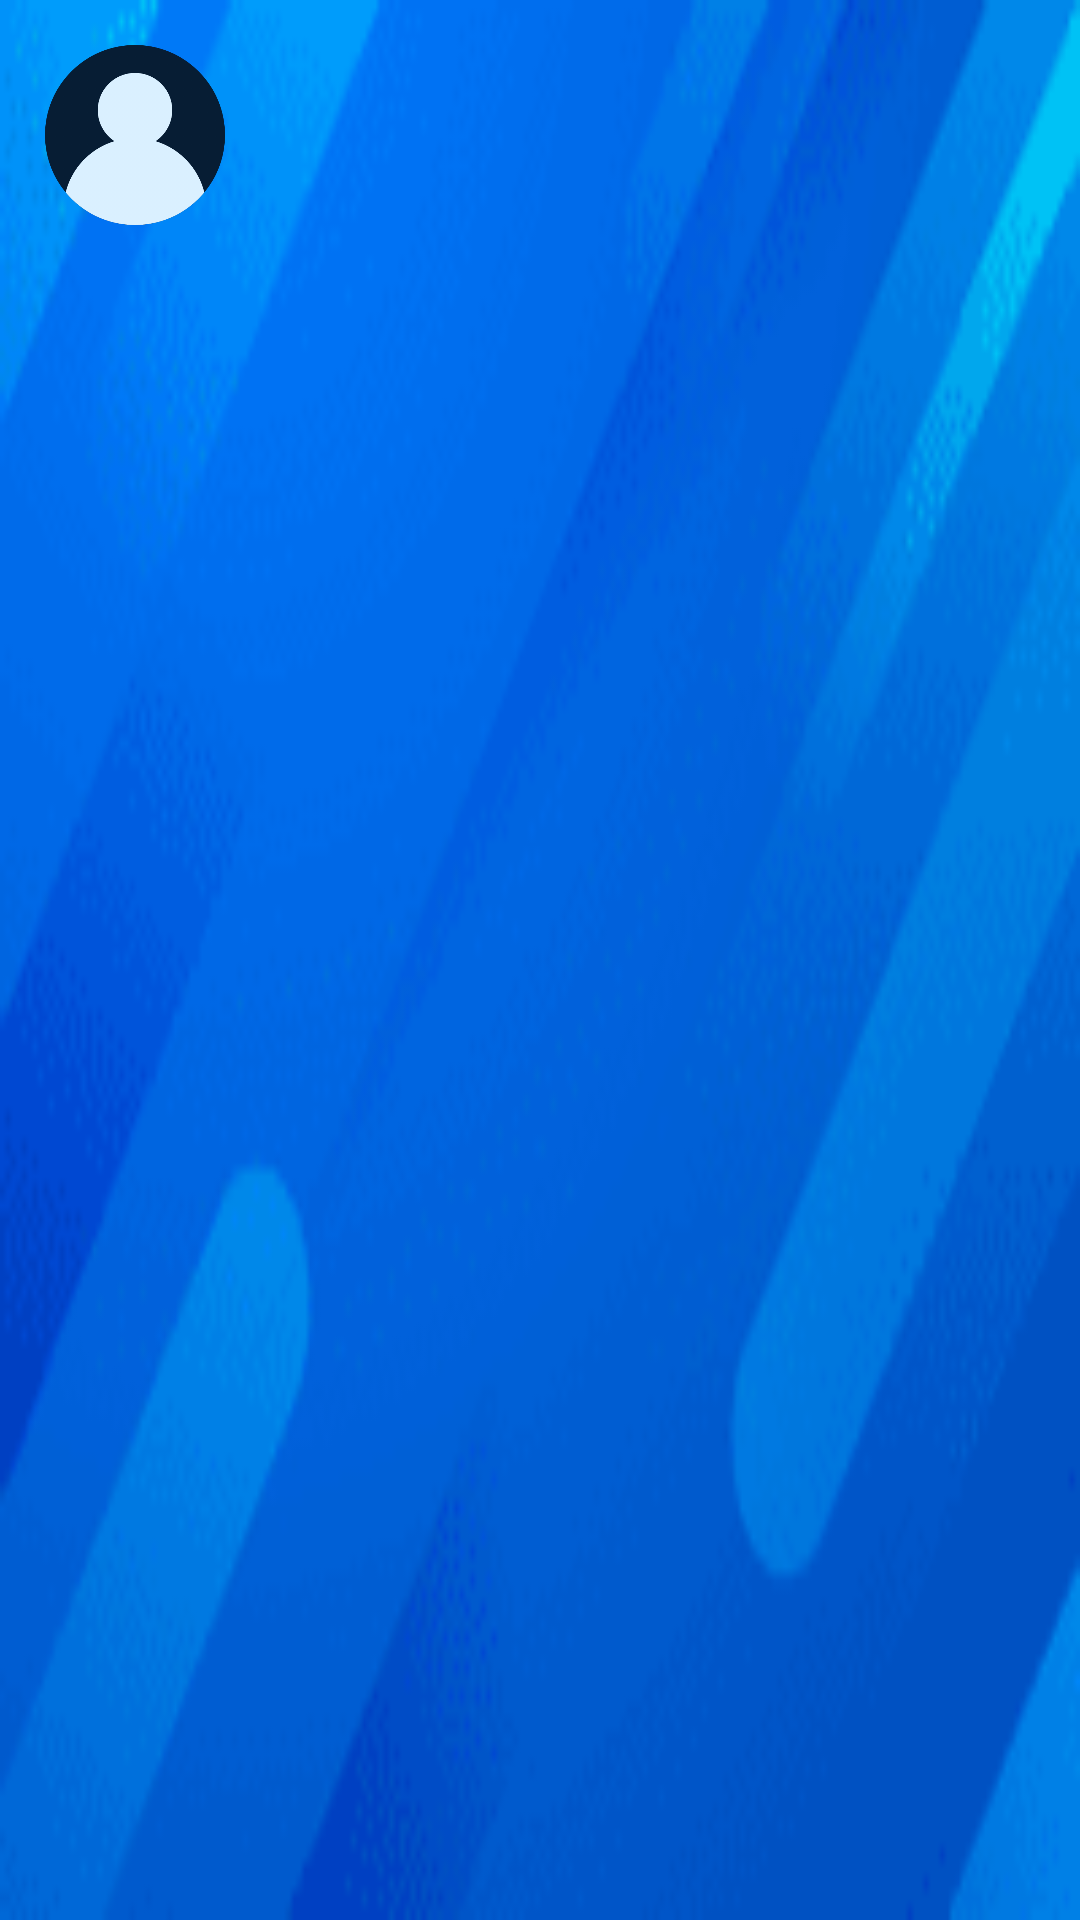

Icon bounding boxes for this 1080px x 1920px phone screenshot, format detection(x1, y1, x2, y2):
Profile picture: detection(45, 45, 225, 225)
